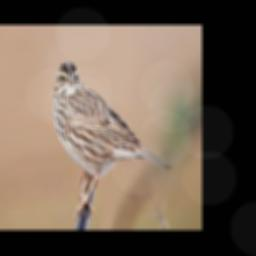Sparrow: (53, 61, 173, 221)
